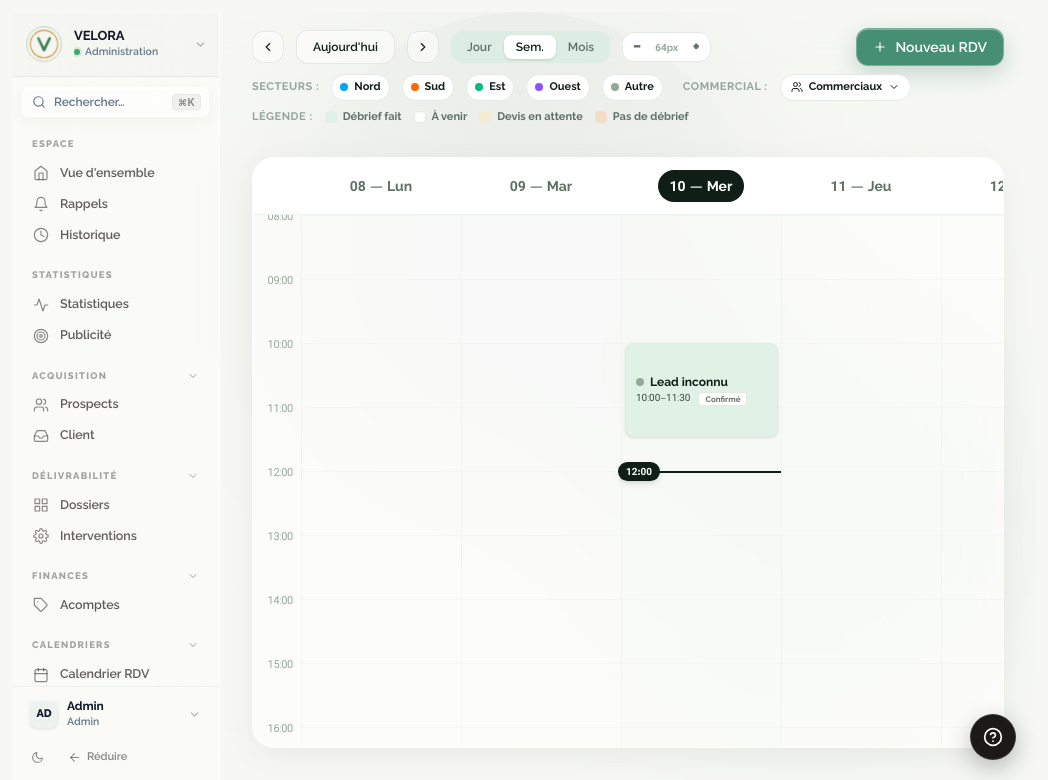
it: RdvCalendar — coloration des cartes › admin : un RDV local débriefé est colorié en vert (bg-success-tint)
Click the button "Mois".
click(581, 47)  # box [556,35,606,59]
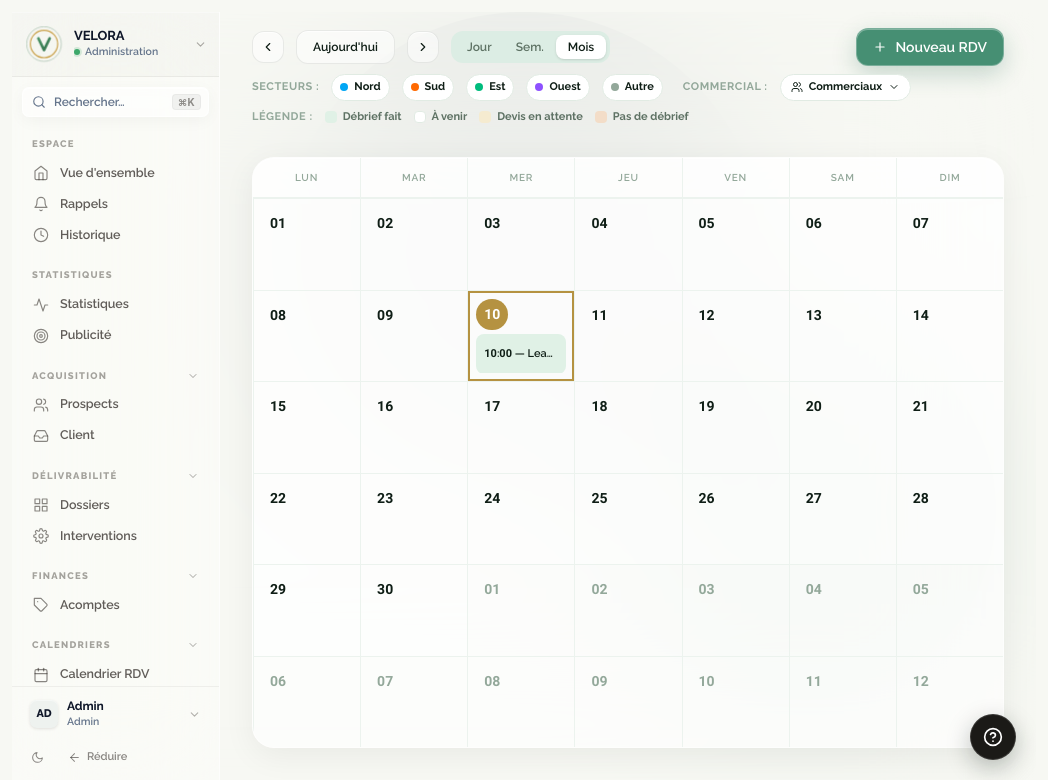
Expected: the button with class "rdv-block" is shown, [476,334,566,373]
